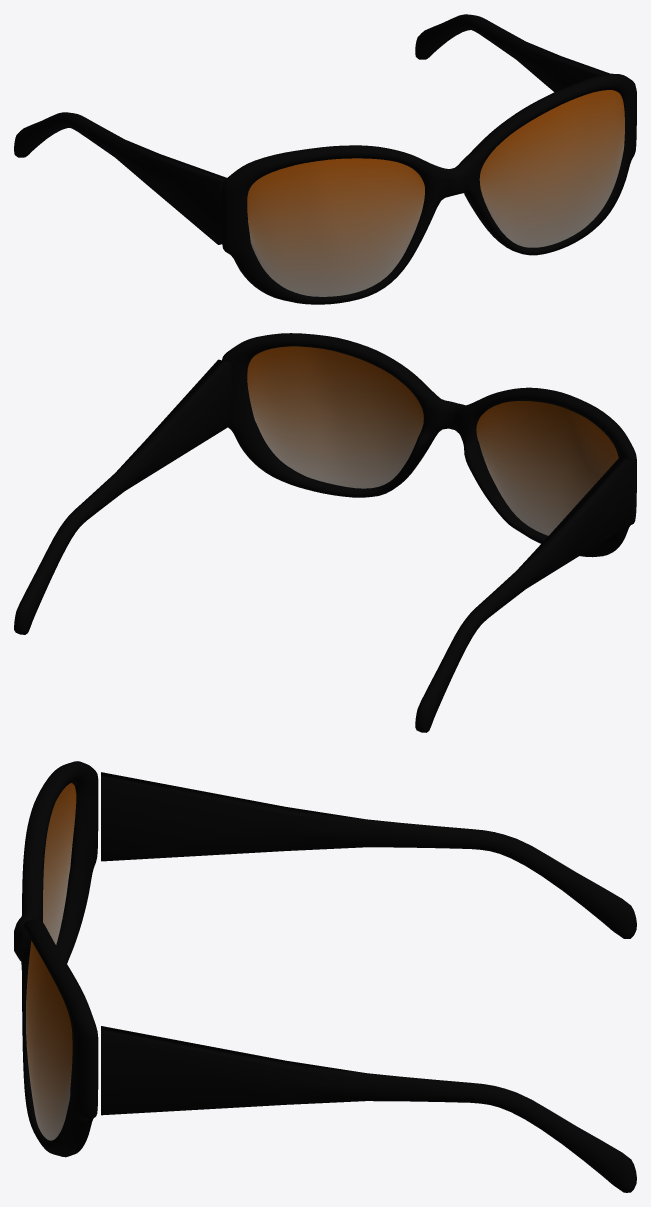
File: blackglasses.obj
The picture shows the model from 3 angles, top to bottom: view 1: azimuth 30°, elevation 25°; view 2: azimuth 150°, elevation 25°; view 3: azimuth 270°, elevation 25°; orthographic projection. The views are drawn at different scales.
Bounding box in the file's own units: 38.98 × 13.99 × 39.16.
2 materials, 1 textured.
